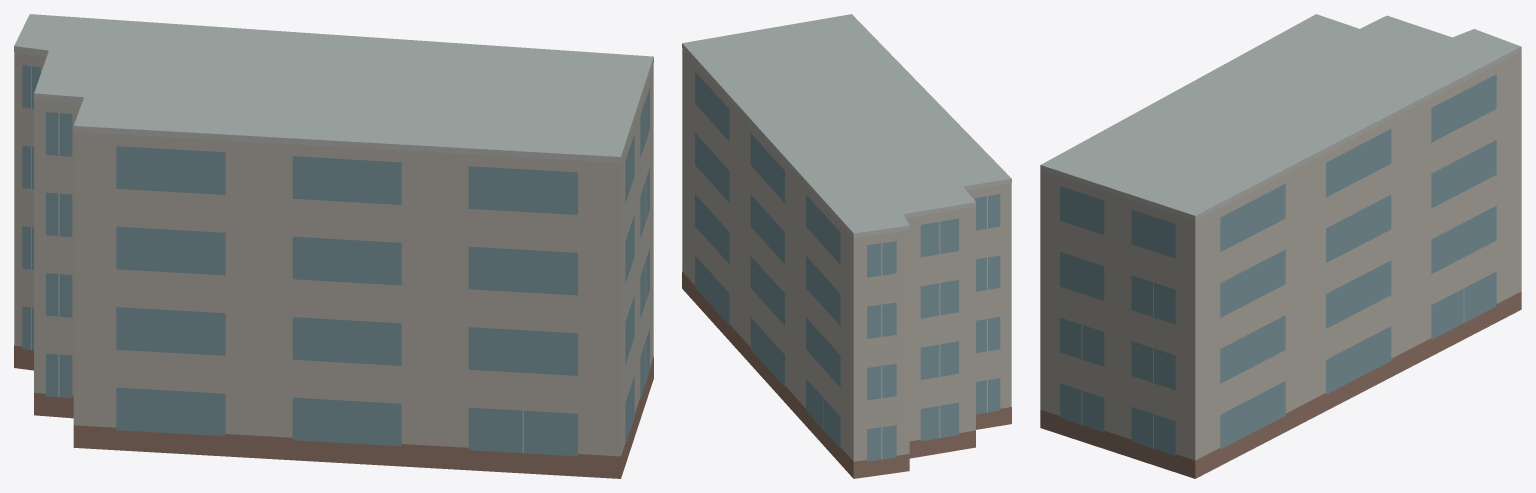
The model's file is survey-upis-32672719.glb.
The picture shows the model from 3 angles, left to right: view 1: azimuth 30°, elevation 25°; view 2: azimuth 150°, elevation 25°; view 3: azimuth 270°, elevation 25°; orthographic projection. The views are drawn at different scales.
Visible parts, largest first — view 1: survey-upis-32672719.tmp; view 2: survey-upis-32672719.tmp; view 3: survey-upis-32672719.tmp.
Part boxes in pixels (x1,y1,x2,y2): survey-upis-32672719.tmp: [14, 14, 653, 478]; survey-upis-32672719.tmp: [682, 14, 1011, 478]; survey-upis-32672719.tmp: [1040, 14, 1521, 478].
Bounding box in the file's own units: 21.74 × 13.2 × 21.89.
